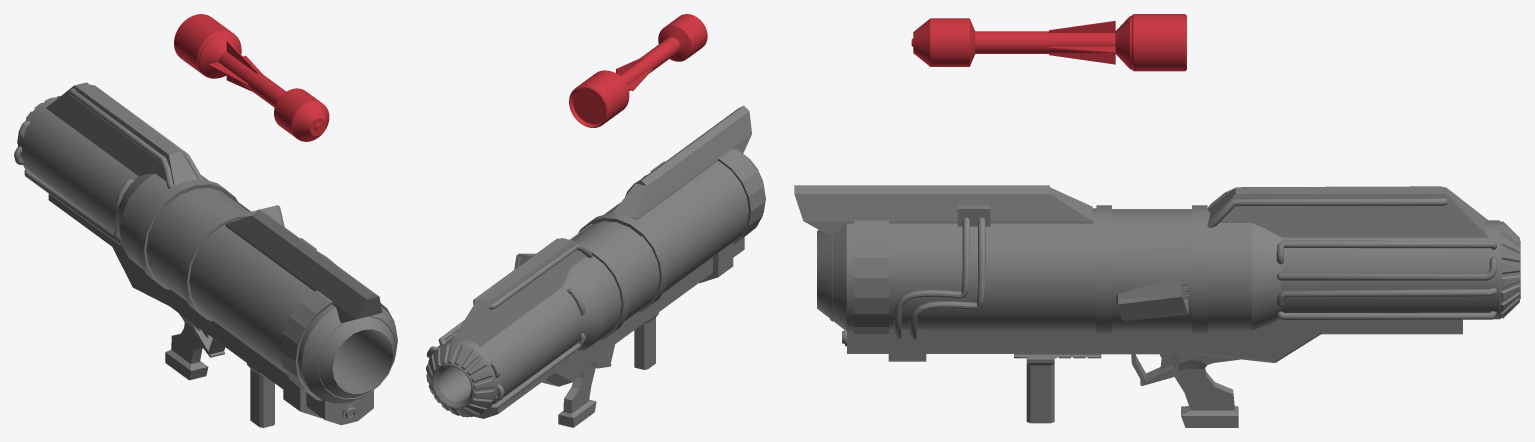
3 views of the same model, side by side, from view 1: azimuth 30°, elevation 25°; view 2: azimuth 150°, elevation 25°; view 3: azimuth 270°, elevation 25° (orthographic). The views are drawn at different scales.
Visible parts, largest first — view 1: osnova_truba, verh, Cylinder, niz, koltso_pered, Cube, zaslonka, koltso_ser1.002, verh_RPipes, koltso_ser1, osnova_truba_RPipes, rukoyatka; view 2: osnova_truba, verh, Cylinder, niz, osnova_truba_RPanel, Cube, koltso_pered, osnova_truba_RPipes, zaslonka, koltso_ser1, verh_RPipes, rukoyatka (+1 smaller); view 3: osnova_truba, verh, niz, Cylinder, osnova_truba_RPipes, koltso_pered, Cube, verh_RPipes, zaslonka, okoshko, koltso_ser1, koltso_ser1.002 (+5 smaller).
Part boxes in pixels (x1,y1,x2,y2): osnova_truba: [17, 96, 397, 403]; verh: [46, 82, 382, 323]; Cylinder: [174, 14, 329, 141]; niz: [48, 194, 373, 425]; koltso_pered: [280, 290, 394, 400]; Cube: [165, 313, 225, 380]; zaslonka: [167, 188, 248, 229]; koltso_ser1.002: [137, 179, 237, 289]; verh_RPipes: [69, 85, 202, 188]; koltso_ser1: [180, 210, 254, 321]; osnova_truba_RPipes: [14, 120, 134, 244]; rukoyatka: [247, 363, 274, 427]; osnova_truba: [427, 148, 765, 416]; verh: [452, 105, 751, 347]; Cylinder: [569, 14, 707, 127]; niz: [474, 237, 744, 418]; osnova_truba_RPanel: [426, 344, 494, 417]; Cube: [558, 344, 614, 427]; koltso_pered: [717, 148, 764, 244]; osnova_truba_RPipes: [426, 288, 585, 409]; zaslonka: [571, 221, 640, 258]; koltso_ser1: [578, 213, 667, 311]; verh_RPipes: [473, 238, 592, 309]; rukoyatka: [634, 312, 658, 369]; osnova_truba: [817, 208, 1520, 331]; verh: [794, 185, 1488, 237]; niz: [847, 319, 1462, 362]; Cylinder: [911, 14, 1186, 71]; osnova_truba_RPipes: [1276, 240, 1497, 320]; koltso_pered: [854, 220, 889, 334]; Cube: [1131, 354, 1240, 427]; verh_RPipes: [1207, 186, 1447, 227]; zaslonka: [1112, 210, 1191, 239]; okoshko: [1116, 276, 1188, 321]; koltso_ser1: [1096, 205, 1111, 334]; koltso_ser1.002: [1192, 205, 1207, 334].
Bounding box in the file's own units: 0.4661 × 1.23 × 2.
